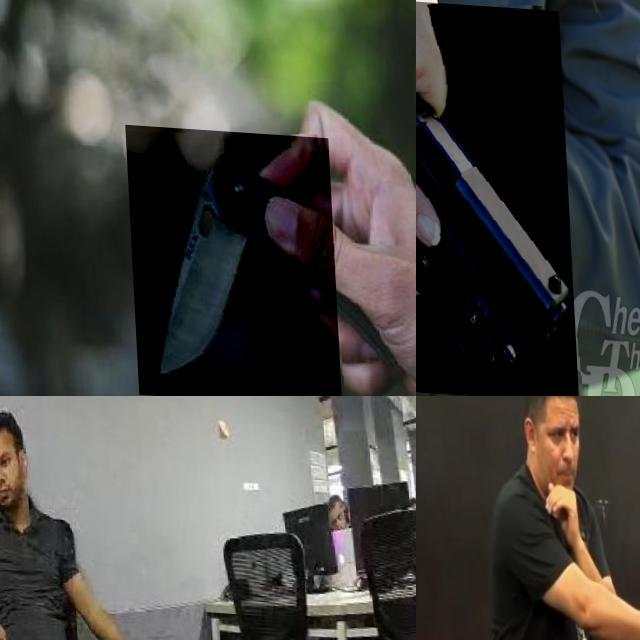-: (122, 122, 337, 396)
gun-knife-thesis - v11 Yolov5 augmented: (416, 0, 575, 396)
